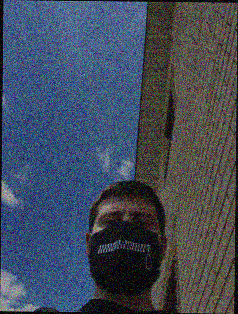with_mask: (89, 205, 162, 297)
